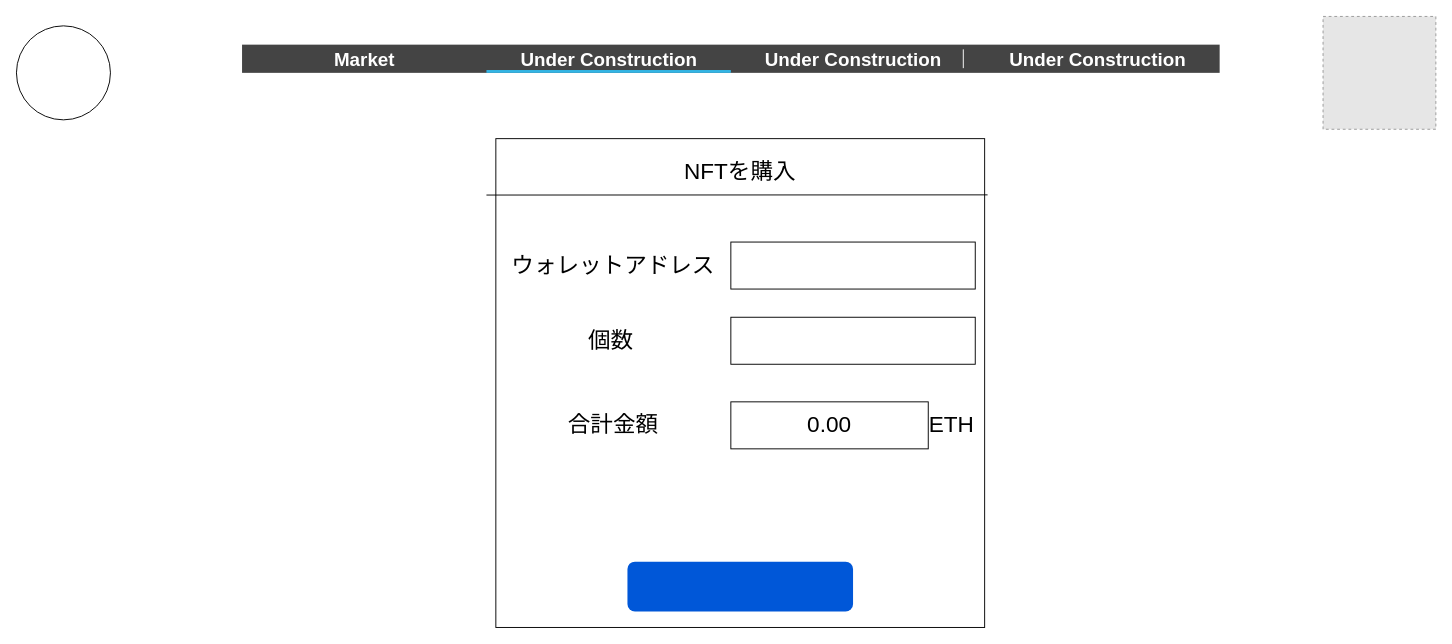
This 1452x644 diagram has some shape labels left out. Grey dashed boxes stand in for pictures. The centre of each missing label's shape, as x and y in pixels:
"みちのく DAO" goes at point (63, 72).
"購入" goes at point (740, 586).
